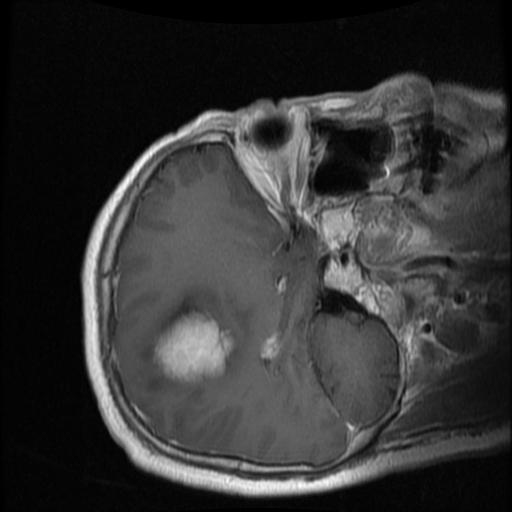meningioma: (149, 307, 233, 384)
